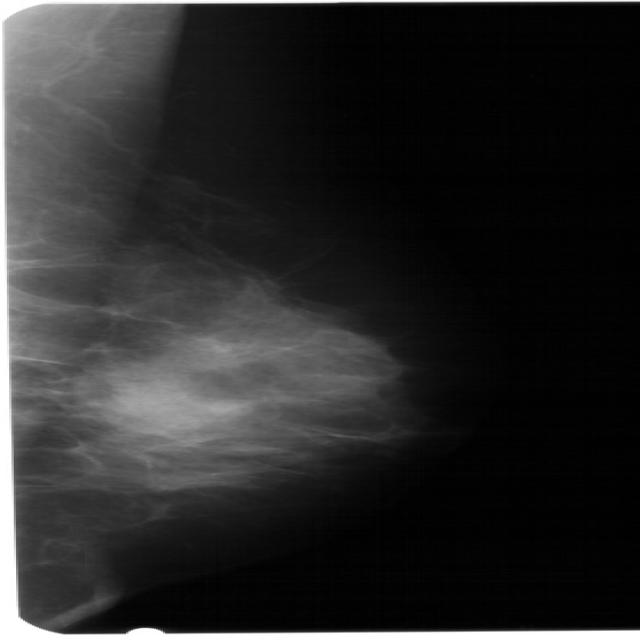tumour: (207, 398, 254, 415)
